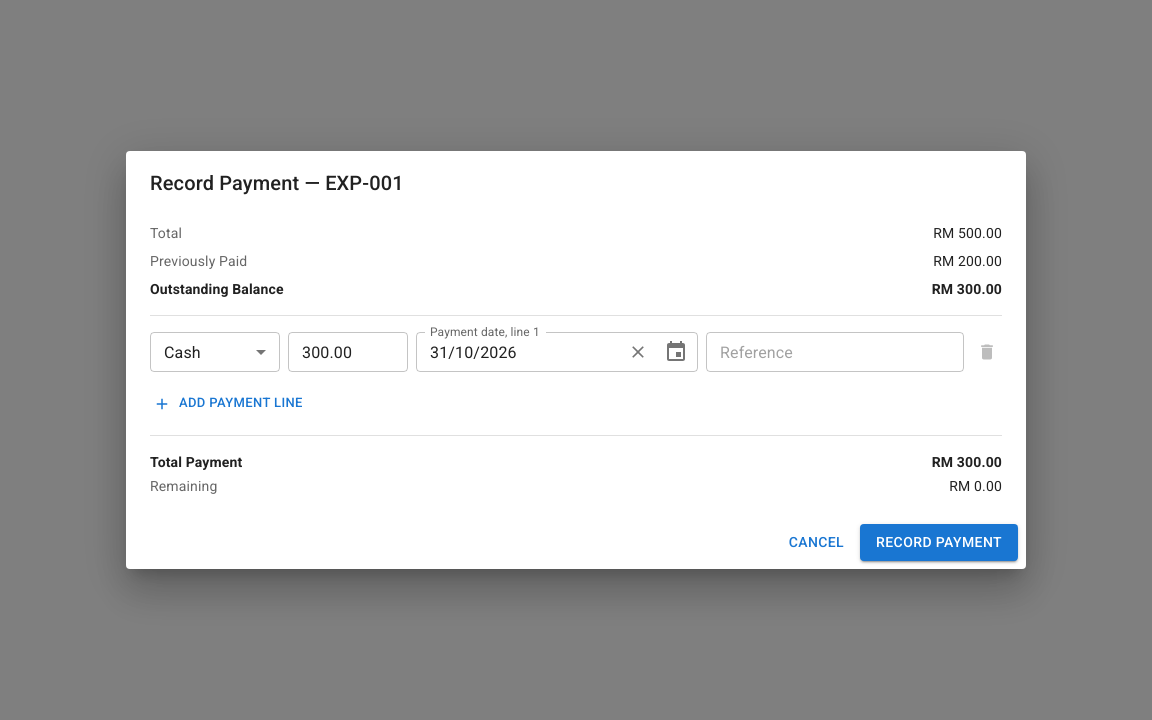
Test case: PaymentDialog overpayment › labels the remaining figure as an overpayment
Step 1. Replace the text in the number field with placeholder "Amount" with "450" → (348, 352), box [288,332,408,372]
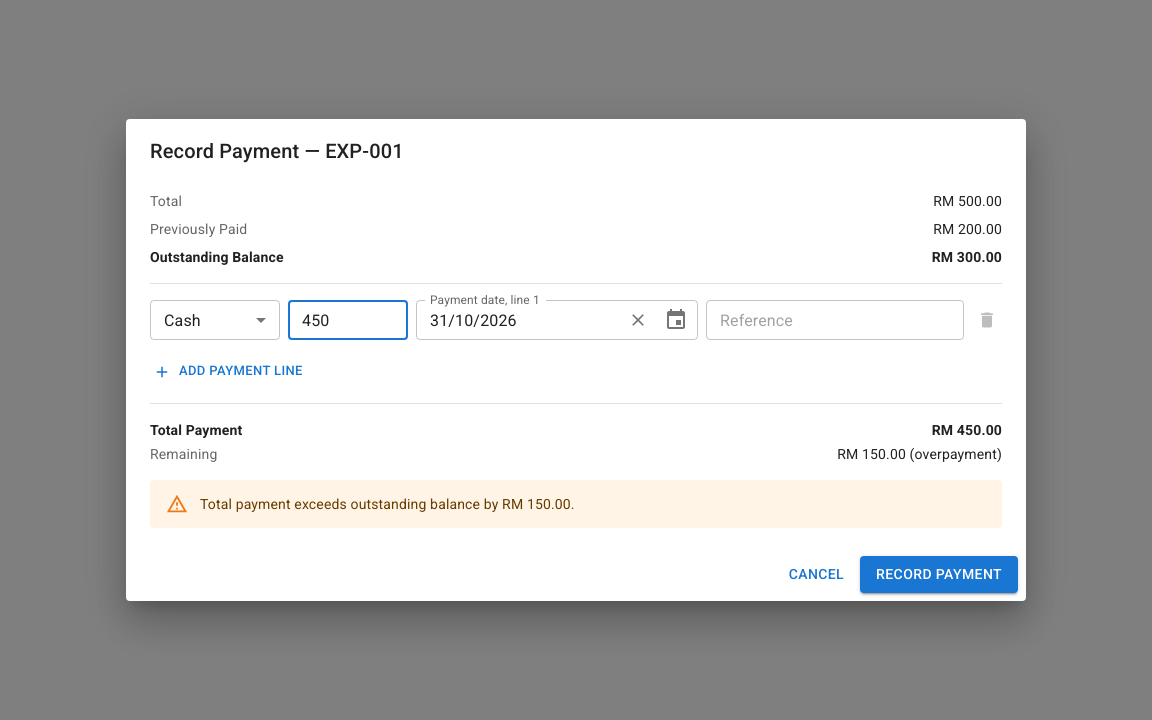
Expected: the text "RM 150.00 (overpayment)" is shown, [837,444,1002,464]
